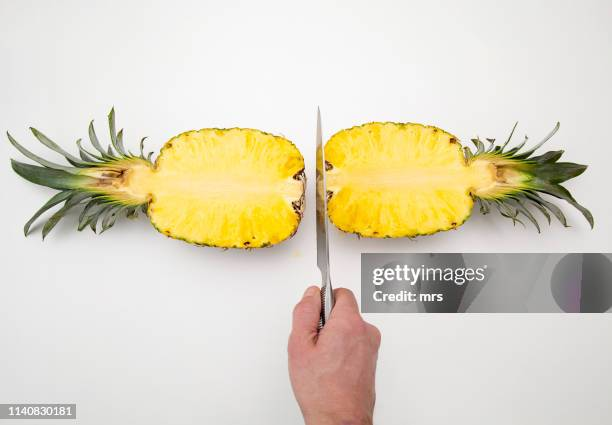pineapple: (12, 96, 304, 286)
